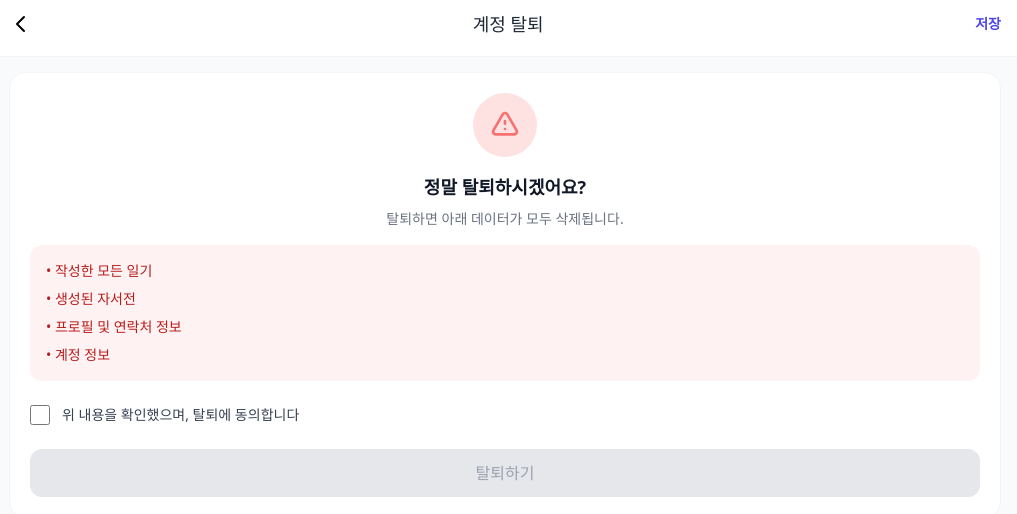
Test case: Withdraw Flow - Integration Test › idle → confirmed state transition › should disable withdraw button when checkbox is unchecked again
# 체크 후 다시 해제
Click the checkbox with test id "withdraw-consent-checkbox": [40, 415] box [30,405,50,425]
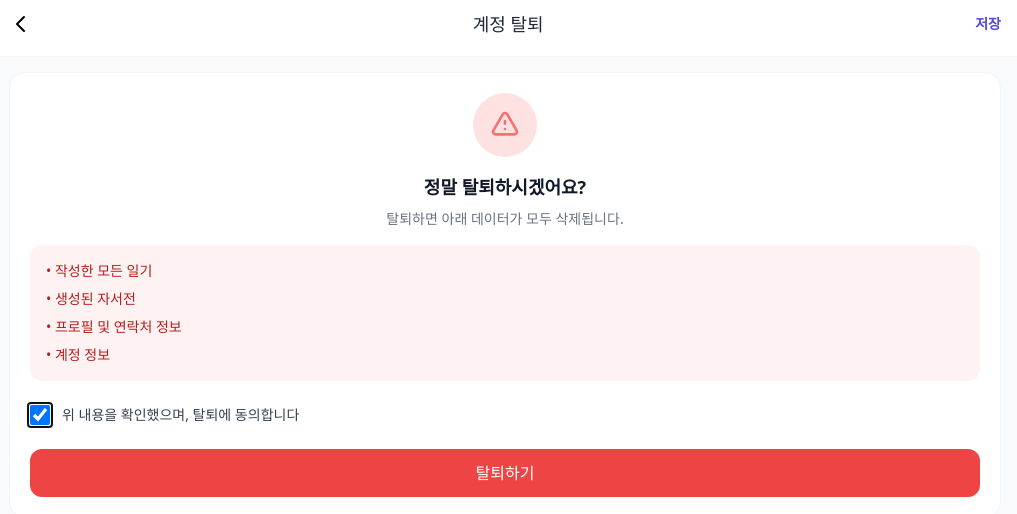
Click the checkbox with test id "withdraw-consent-checkbox": [40, 415] box [30,405,50,425]
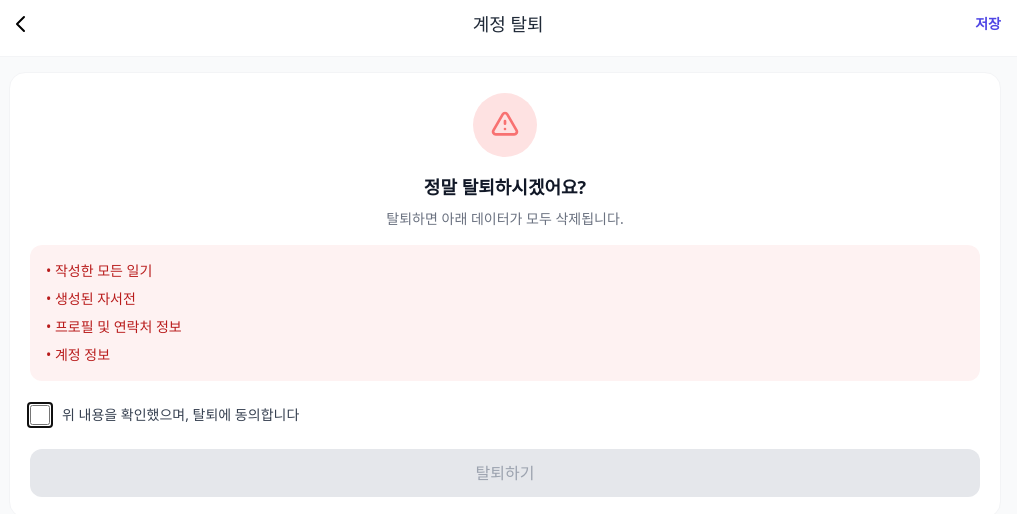
Result: the button "탈퇴하기" is disabled at [30,449,980,497]
